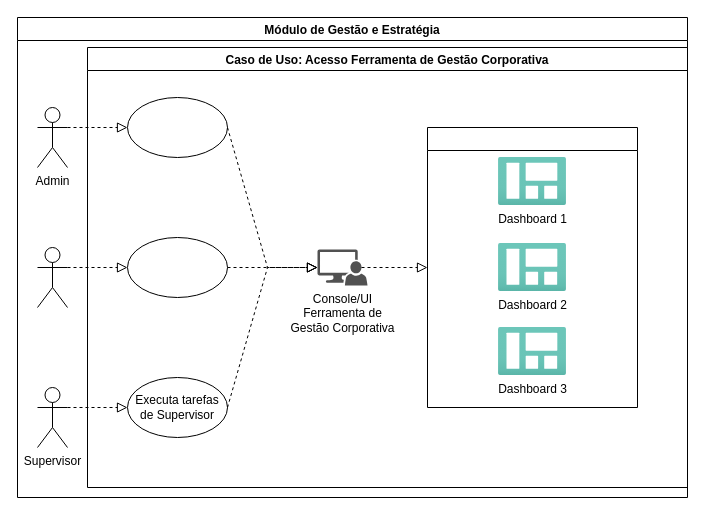
Image size: 705x515. Some labels were removed from this diagram. Here are the shapes that lost their labels. From the top down, the box of each, then its label:
(126, 96, 228, 158): Executa tarefas de Administrador
(36, 246, 68, 308): Gerente
(126, 236, 228, 298): Executa tarefas de Gerente
(426, 126, 638, 408): Ferramenta de Gestão Corporativa
